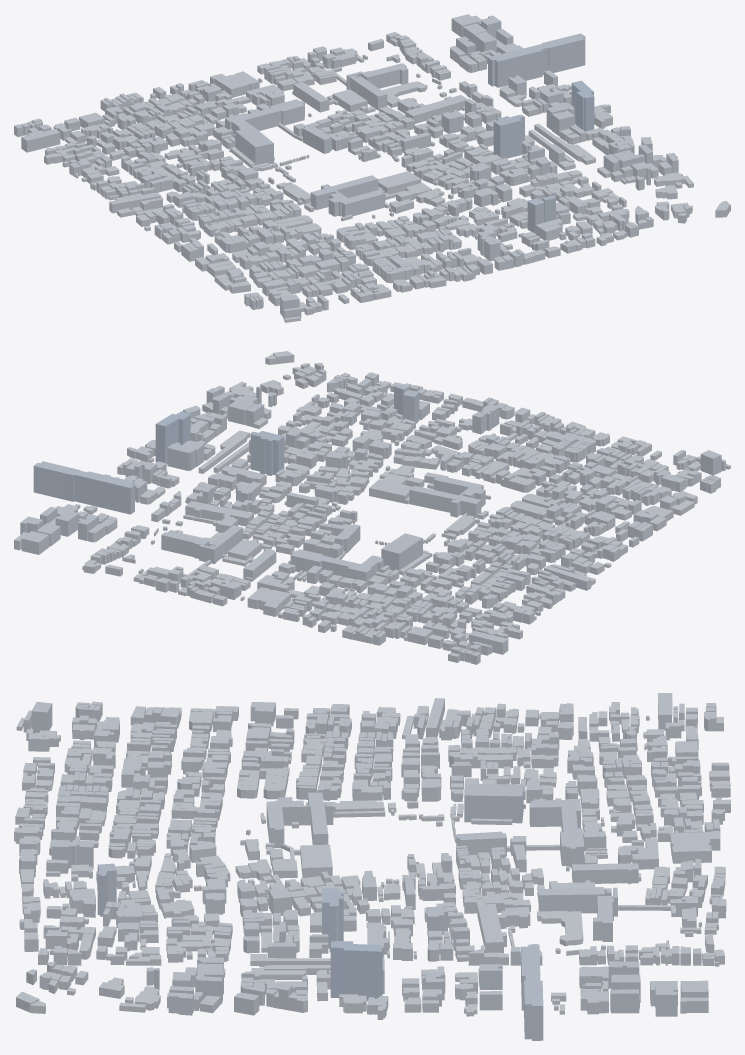
3 renders of one model, top to bottom at view 1: azimuth 30°, elevation 25°; view 2: azimuth 150°, elevation 25°; view 3: azimuth 270°, elevation 25°, orthographic. The views are drawn at different scales.
Size of the model in its own units: 557 by 39.41 by 509.
